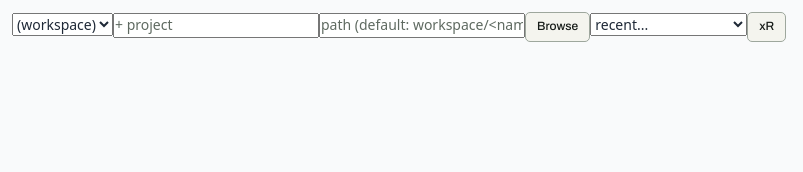
Test: ProjectSwitcher (Phase 4 outside-workspace + recents) › clicking a recent entry fills the name + path form fields
Select "old (/old/path)" in the dropdown named "Recent projects" at [669, 25], box [590, 13, 747, 36]
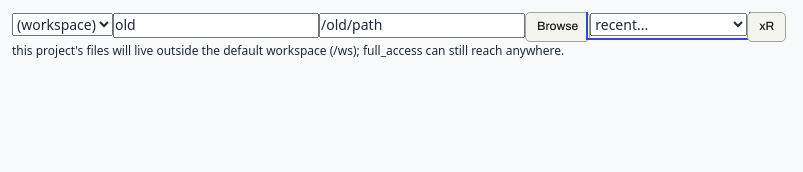
Now the field named "New project name" holds "old", box [113, 13, 319, 38]
Now the field named "New project root path" holds "/old/path", box [319, 13, 525, 38]
